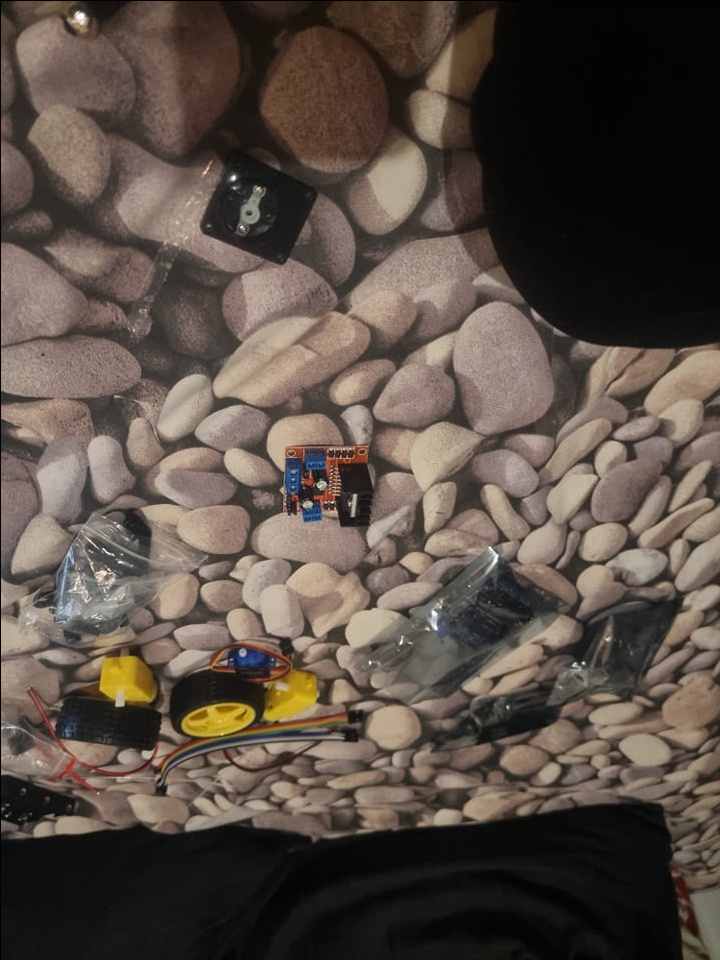BATTERY BOX: (0, 775, 75, 830)
MOTOR: (283, 441, 378, 529)
